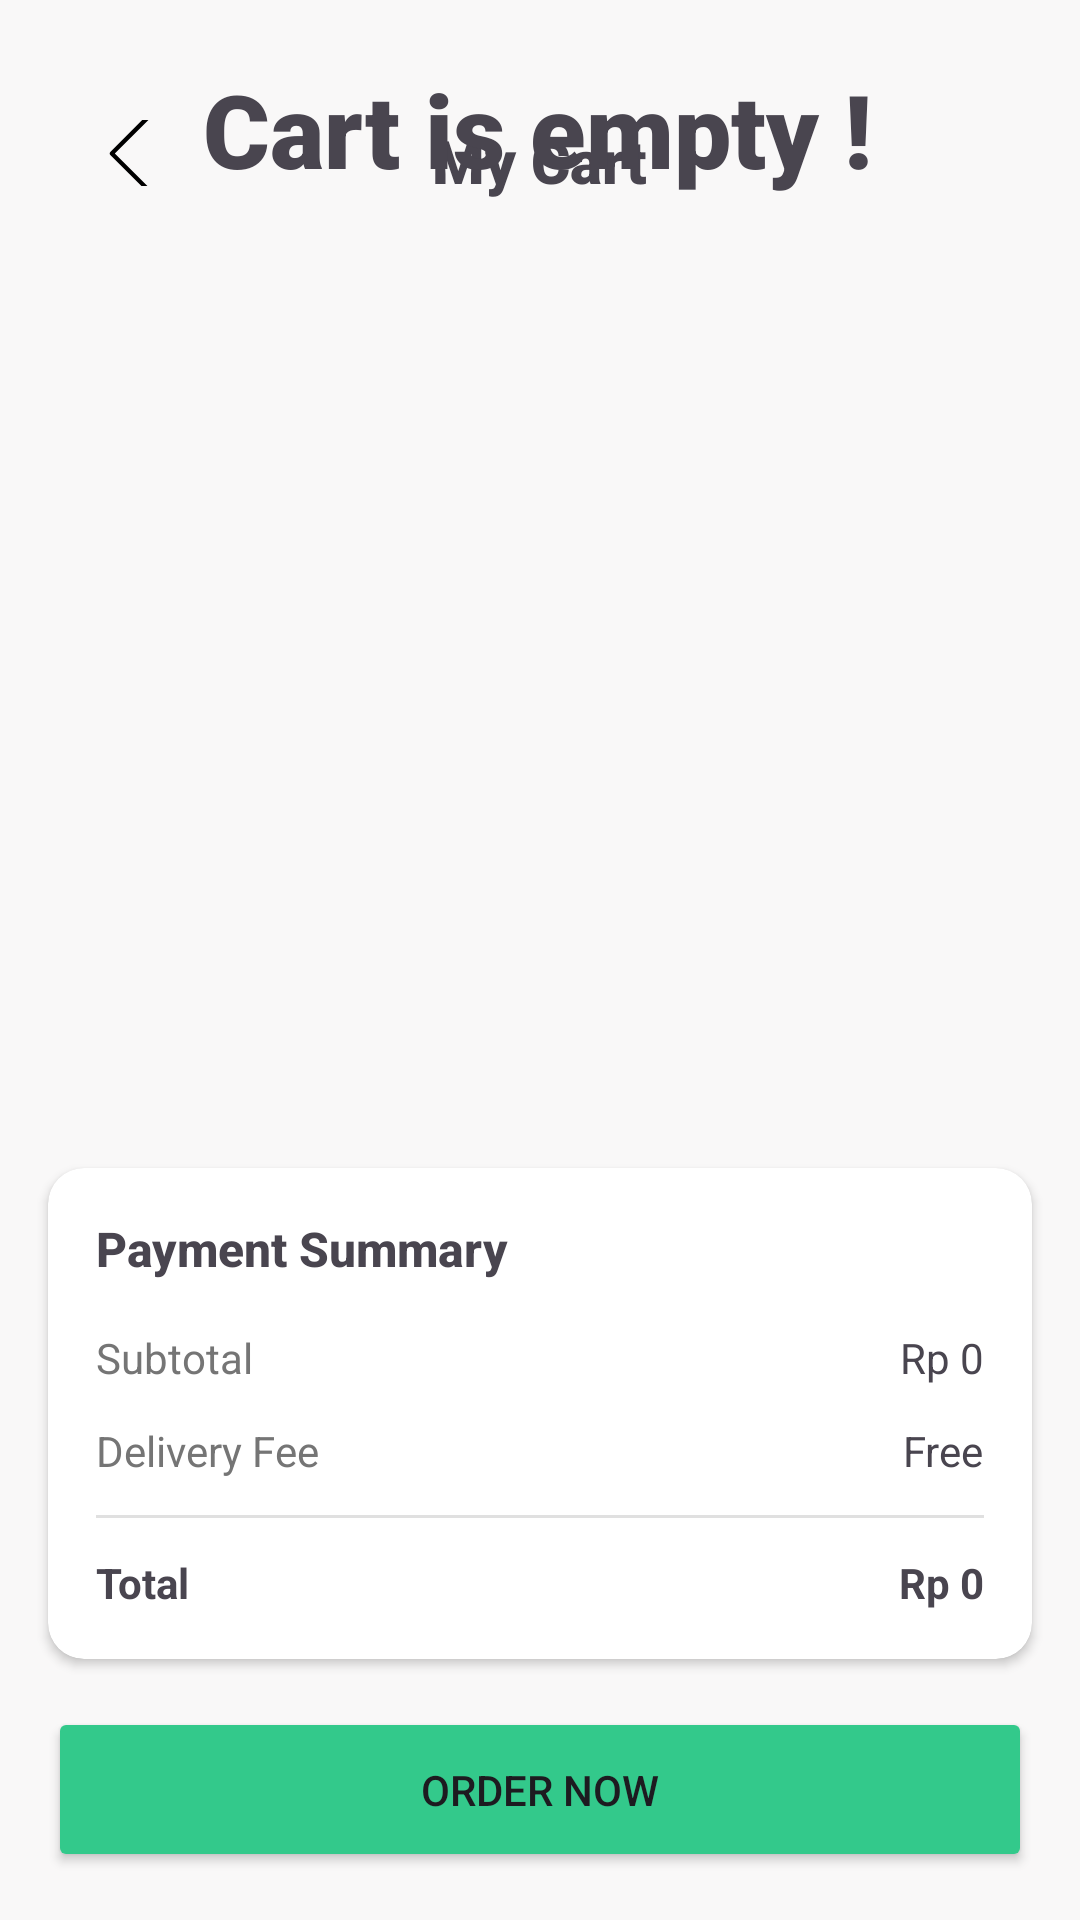

Where icons sit on this 1080w x 1920h app screen, as (x1,y1,x2,y2):
back: (109,120,148,186)
